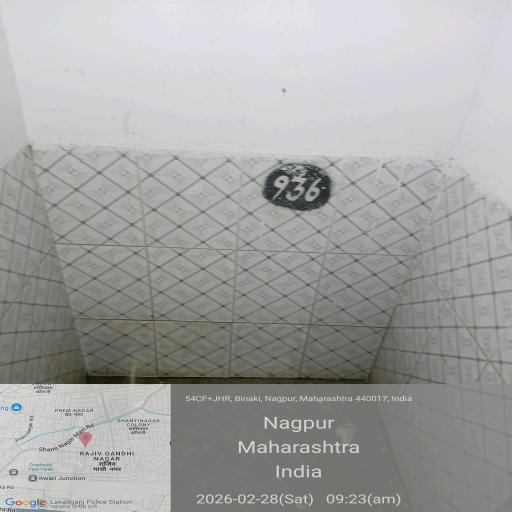clean_floor: (77, 29, 481, 301)
partial_dirty_floor: (35, 364, 488, 507)
